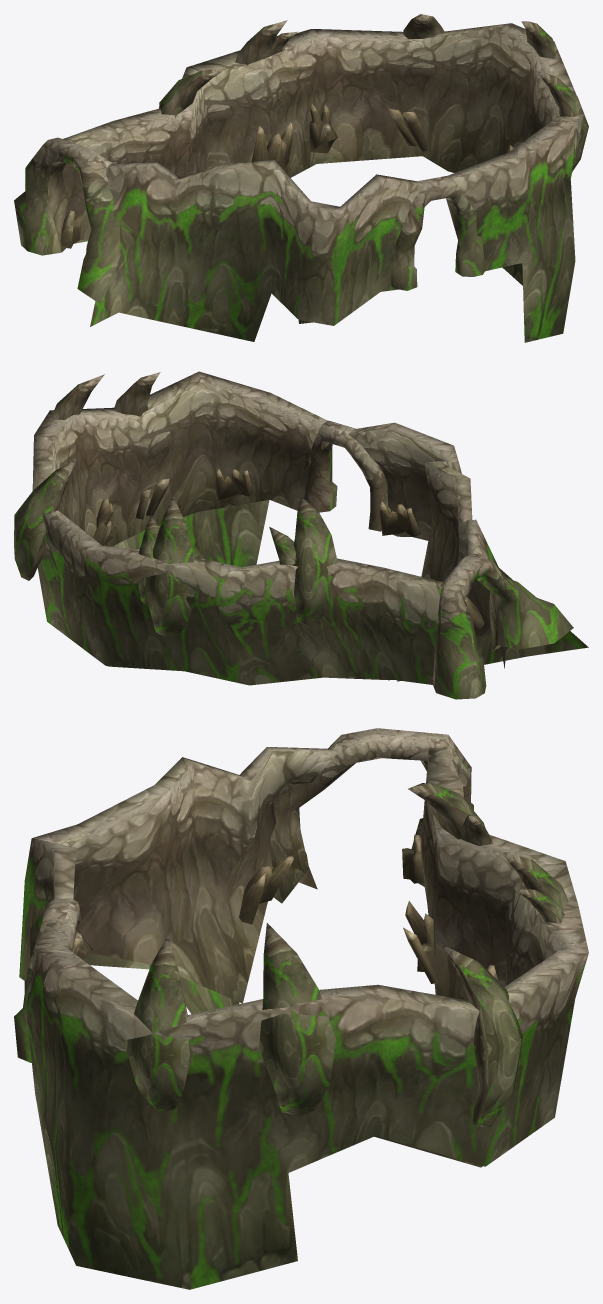
The model's file is stone49.FBX.
3 renders of one model, top to bottom at view 1: azimuth 30°, elevation 25°; view 2: azimuth 150°, elevation 25°; view 3: azimuth 270°, elevation 25°, orthographic. The views are drawn at different scales.
Visible parts, largest first — view 1: Object02; view 2: Object02; view 3: Object02.
Boxes of the visible parts, x1=… form: Object02: x1=14, y1=14, x2=588, y2=342; Object02: x1=14, y1=371, x2=588, y2=699; Object02: x1=14, y1=728, x2=588, y2=1289.
Bounding box in the file's own units: 8387 × 4170 × 5869.
